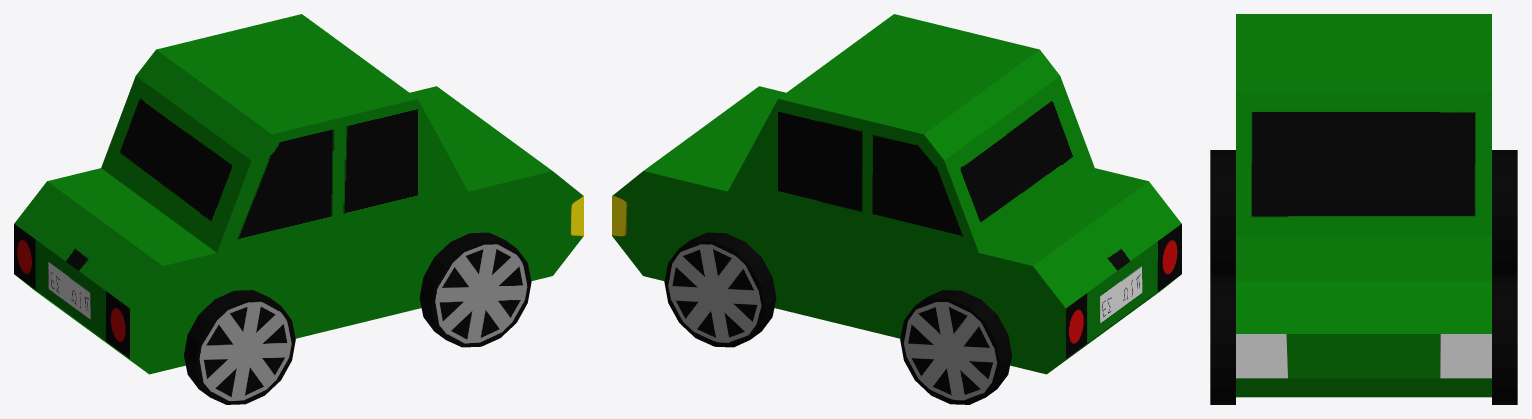
The model's file is car1_green.gltf.
3 renders of one model, left to right at view 1: azimuth 30°, elevation 25°; view 2: azimuth 150°, elevation 25°; view 3: azimuth 270°, elevation 25°, orthographic. The views are drawn at different scales.
Visible parts, largest first — view 1: car, tireBR, tireFR; view 2: car, tireBL, tireFL; view 3: car, tireFL, tireFR, tireBL, tireBR.
Part boxes in pixels (x1=…): car: x1=14, y1=14, x2=583, y2=374; tireBR: x1=184, y1=290, x2=295, y2=404; tireFR: x1=419, y1=232, x2=531, y2=347; car: x1=612, y1=14, x2=1181, y2=374; tireBL: x1=900, y1=290, x2=1011, y2=404; tireFL: x1=664, y1=232, x2=776, y2=347; car: x1=1236, y1=14, x2=1491, y2=397; tireFL: x1=1492, y1=277, x2=1517, y2=404; tireFR: x1=1210, y1=277, x2=1235, y2=404; tireBL: x1=1492, y1=150, x2=1517, y2=276; tireBR: x1=1210, y1=150, x2=1235, y2=276.
Bounding box in the file's own units: 4.52 × 2.4 × 2.4.
Materials: 5 (5 with a texture image).
